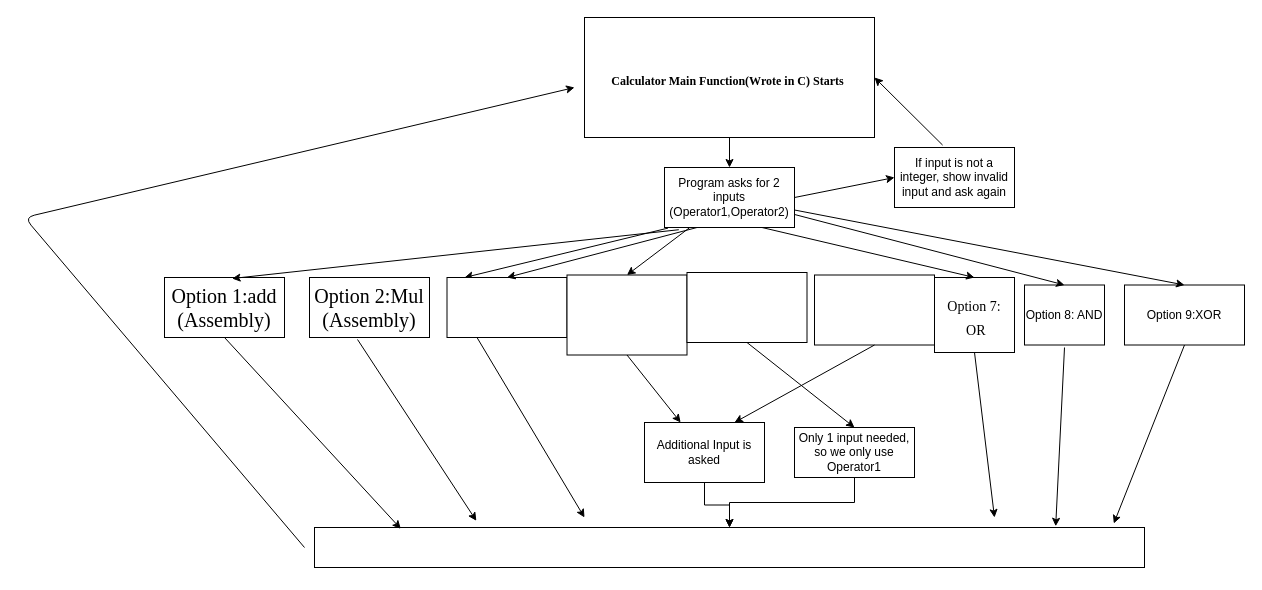
Image size: 1262x590. Some labels were removed from this diagram. Here are the shapes that lost their labels. From the top down, the centre of each, then its label:
the point at 506,307: Option 3:Div (Assembly)
the point at 626,314: Option4: Mean (Assembly)
the point at 746,307: Option 5:Even or Odd (Assembly)
the point at 874,309: Option 6: Reverse Bits (Assembly)
the point at 729,547: Output
